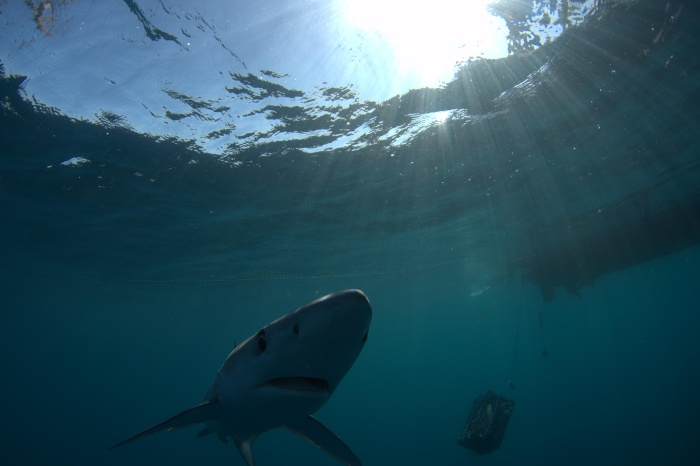Azul: (146, 278, 402, 466)
